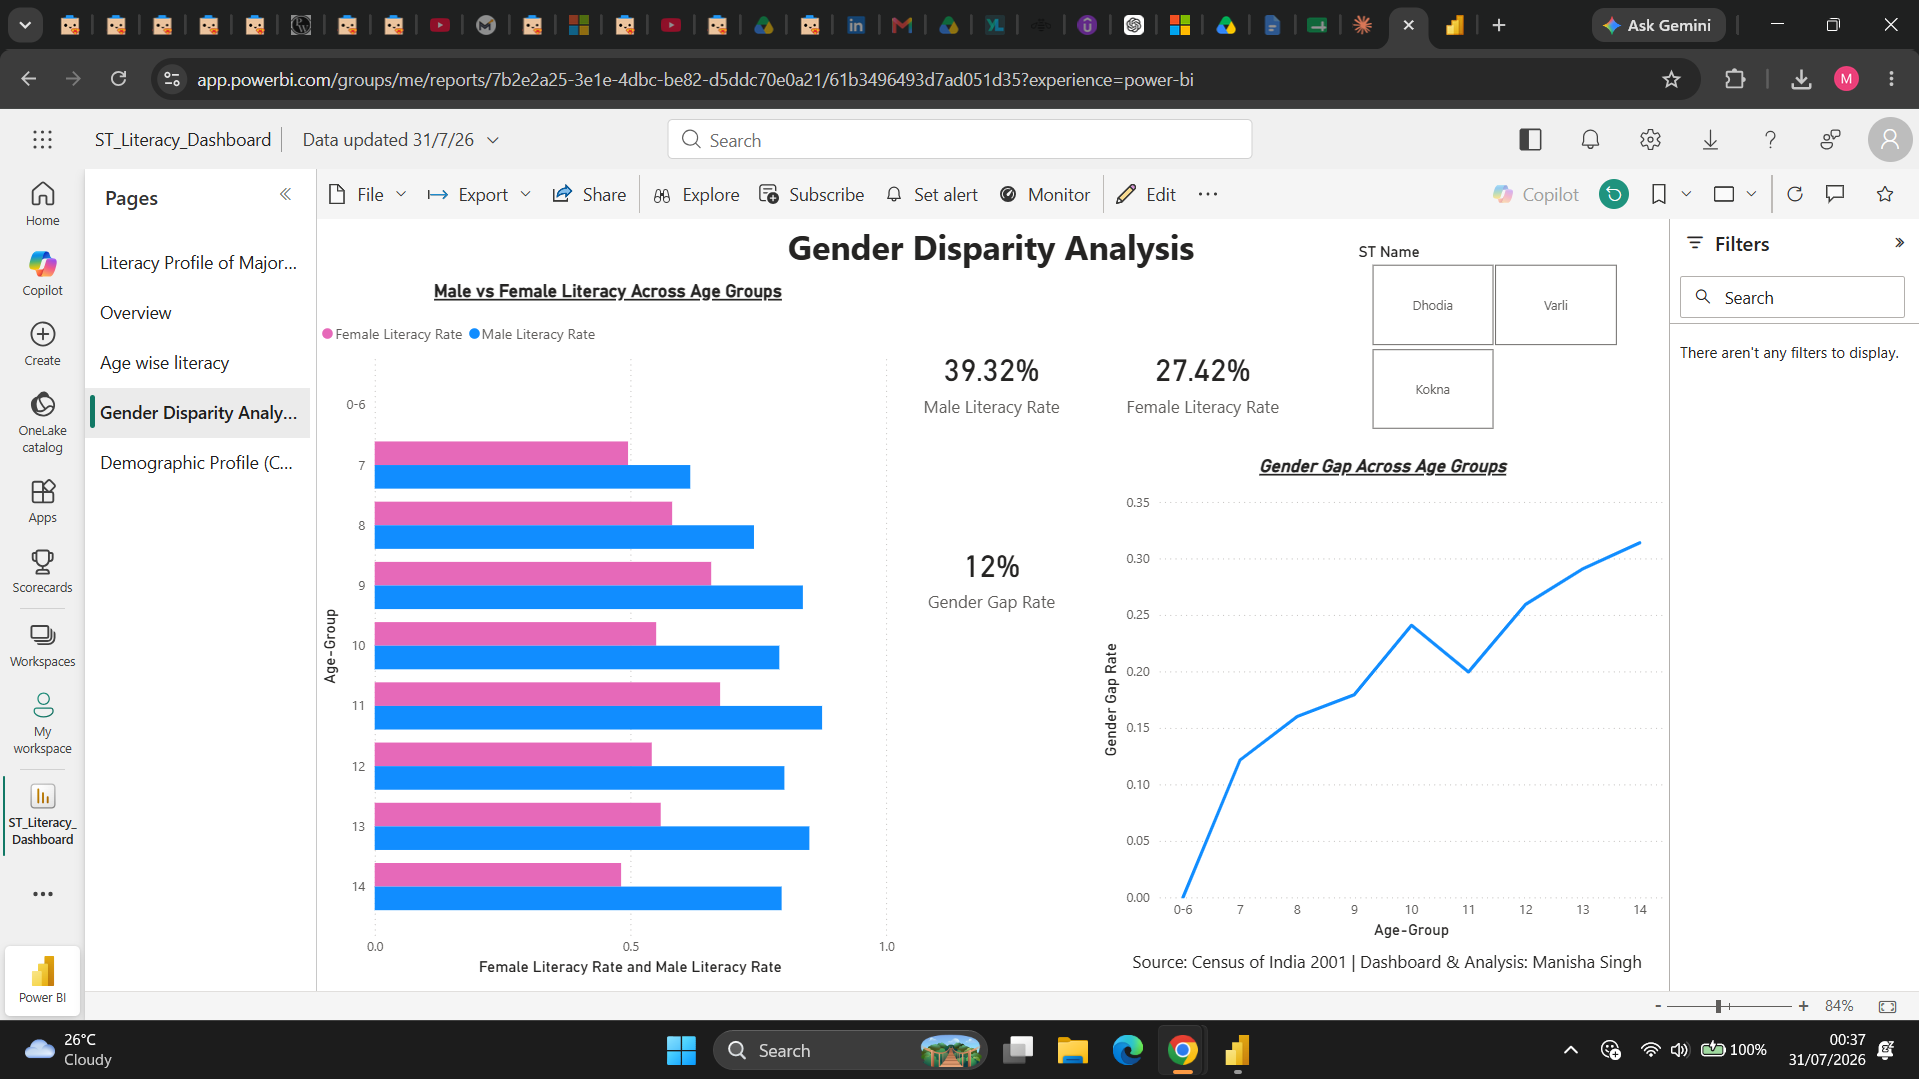

The page's visual inventory and layout, read from the dashboard file:
{"tool":"powerbi","page":{"name":"Gender Disparity Analysis","canvas":[1280,720],"ordinal":3},"visuals":[{"type":"textbox","box":[174.3,0,930.4,57.6],"z":0},{"type":"card","fields":{"Values":["RAW DATA.Male Literacy %"]},"box":[539.3,70,200.3,166],"z":1000},{"type":"card","fields":{"Values":["RAW DATA.Female Literacy %"]},"box":[739.6,70,200.3,166],"z":2000},{"type":"card","fields":{"Values":["RAW DATA.Gender Gap %"]},"box":[539.3,236,200.3,204.5],"z":3000},{"type":"clusteredBarChart","title":"Male vs Female Literacy Across Age Groups","fields":{"Y":["RAW DATA.Female Literacy %","RAW DATA.Male Literacy %"],"Category":["RAW DATA.Age-Group"]},"box":[0,57.6,553,662.8],"z":4000},{"type":"lineChart","title":"Gender Gap Across Age Groups","fields":{"Category":["RAW DATA.Age-Group"],"Y":["RAW DATA.Gender Gap %"]},"box":[739.6,223.7,540.7,462.4],"z":5000},{"type":"textbox","box":[768.4,686.1,511.8,34.3],"z":6000},{"type":"slicer","fields":{"Values":["RAW DATA.ST Name"]},"box":[974.3,17.8,281.3,188],"z":7000}]}

Visuals, with their boxes on the page's 1280x720 design canvas (x1, y1, x2, y2). These are canvas units, not pixel positions in the 1919x1079 screenshot, which may show the page scaled, cropped or inside an application window:
textbox: crop(174, 0, 1105, 58)
card - RAW DATA.Male Literacy %: crop(539, 70, 740, 236)
card - RAW DATA.Female Literacy %: crop(740, 70, 940, 236)
card - RAW DATA.Gender Gap %: crop(539, 236, 740, 440)
"Male vs Female Literacy Across Age Groups" clusteredBarChart: crop(0, 58, 553, 720)
"Gender Gap Across Age Groups" lineChart: crop(740, 224, 1280, 686)
textbox: crop(768, 686, 1280, 720)
slicer - RAW DATA.ST Name: crop(974, 18, 1256, 206)
